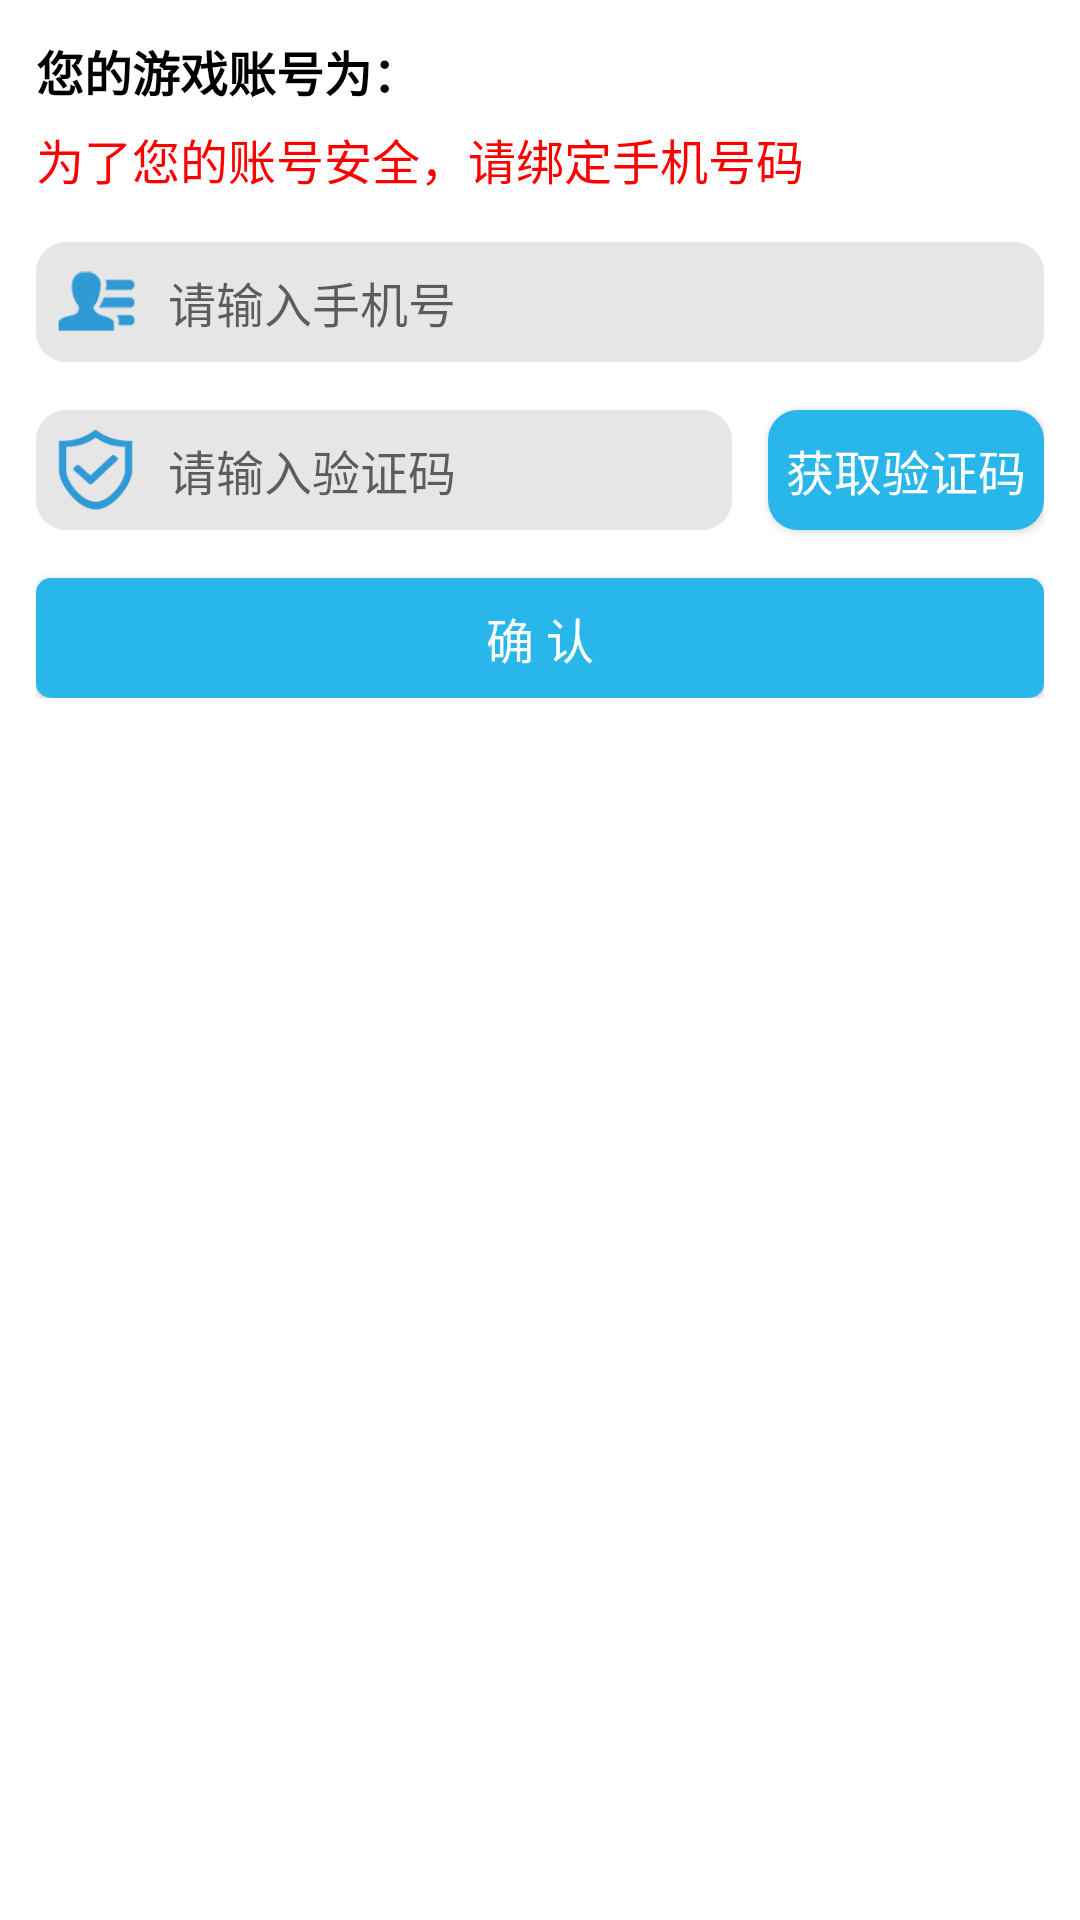

Icon click points for this 1080px x 1920px phone screenshot, format point (x, y):
账号图标: point (96, 301)
验证码图标: point (95, 469)
